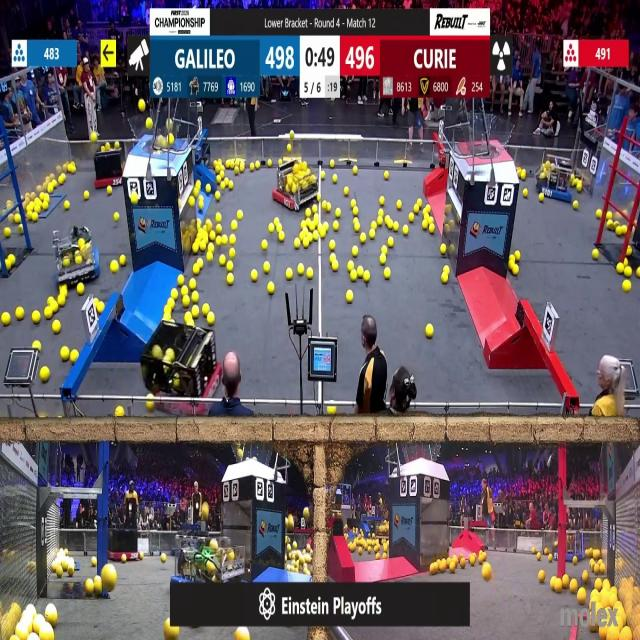ball_airborne: (202, 506, 210, 522), (160, 136, 168, 148), (139, 100, 146, 112), (304, 509, 311, 519), (146, 118, 152, 128), (169, 135, 174, 146)
ball_ground: (44, 605, 56, 625), (104, 567, 116, 586), (237, 628, 250, 640), (553, 580, 563, 594), (483, 564, 492, 579), (576, 589, 585, 604), (40, 366, 49, 380), (94, 580, 103, 594), (40, 631, 53, 640), (570, 580, 578, 594), (87, 581, 95, 595), (61, 348, 70, 360), (426, 324, 434, 337), (207, 313, 215, 326), (2, 313, 10, 326), (70, 350, 78, 363), (15, 308, 23, 321), (54, 321, 62, 334), (446, 562, 454, 575), (346, 290, 354, 302), (33, 312, 41, 324), (110, 262, 118, 274), (356, 267, 364, 279), (430, 562, 438, 574), (269, 282, 276, 295), (115, 408, 123, 419), (190, 291, 197, 303), (225, 274, 232, 286), (203, 304, 210, 316), (513, 265, 520, 277), (132, 191, 139, 203), (191, 307, 198, 319), (44, 308, 51, 320), (562, 574, 569, 586), (76, 284, 84, 294), (350, 272, 358, 282), (327, 408, 335, 418), (182, 296, 190, 306), (220, 236, 228, 246), (184, 312, 192, 322), (538, 569, 544, 582), (307, 269, 314, 280), (363, 272, 370, 283), (443, 274, 450, 285), (624, 281, 631, 292), (172, 288, 179, 299), (98, 303, 105, 314), (188, 279, 195, 290), (515, 250, 522, 261), (7, 254, 14, 265), (468, 555, 475, 566), (286, 269, 292, 281), (33, 342, 41, 351), (596, 577, 602, 589), (600, 628, 606, 640), (420, 220, 428, 229), (165, 313, 173, 322), (348, 262, 355, 272), (177, 276, 184, 286), (625, 268, 632, 278), (618, 265, 625, 275), (230, 236, 237, 246), (480, 552, 487, 562), (209, 232, 216, 242), (230, 248, 237, 258), (188, 198, 195, 208), (61, 285, 68, 295), (200, 242, 207, 252), (69, 164, 76, 174), (507, 263, 514, 273), (251, 271, 257, 282), (384, 269, 390, 280), (593, 249, 599, 260), (119, 255, 125, 266), (219, 254, 225, 265), (265, 264, 271, 275), (442, 244, 448, 255), (297, 266, 303, 277), (359, 234, 365, 245), (60, 174, 66, 185), (331, 221, 338, 230), (571, 201, 578, 210), (181, 286, 188, 295), (225, 161, 232, 170), (402, 224, 408, 234), (381, 254, 387, 264), (331, 263, 337, 273), (328, 241, 334, 251), (113, 212, 119, 222), (226, 263, 232, 273), (380, 197, 386, 207), (354, 221, 360, 231), (4, 229, 10, 239), (232, 220, 238, 230), (278, 233, 284, 243), (388, 238, 394, 248), (147, 400, 153, 410), (216, 223, 222, 233), (192, 266, 198, 276), (270, 222, 276, 232), (60, 295, 66, 305), (263, 240, 269, 250), (294, 240, 300, 250), (32, 212, 38, 222), (520, 170, 526, 180), (237, 210, 243, 220), (313, 232, 319, 242), (428, 222, 434, 232), (618, 226, 624, 236), (42, 201, 48, 211), (191, 244, 197, 254), (92, 134, 98, 144), (208, 244, 215, 252), (584, 570, 589, 581), (352, 247, 358, 256), (207, 253, 213, 262), (538, 192, 544, 201), (162, 554, 168, 563), (396, 201, 402, 210), (93, 558, 99, 567), (328, 253, 334, 262), (344, 187, 350, 196), (47, 295, 53, 304), (168, 298, 174, 307), (216, 237, 222, 246), (206, 183, 212, 192), (388, 220, 394, 229), (299, 220, 305, 229), (196, 183, 202, 192), (54, 302, 60, 311), (410, 213, 415, 223), (337, 208, 342, 218), (576, 182, 581, 192), (215, 190, 220, 200), (17, 224, 22, 234), (322, 202, 327, 212), (107, 186, 113, 194), (596, 210, 602, 218), (304, 240, 310, 248), (379, 208, 385, 216), (306, 209, 312, 217), (627, 247, 633, 255), (198, 260, 204, 268), (274, 217, 280, 225), (199, 202, 205, 210), (298, 232, 304, 240), (378, 217, 384, 225), (220, 182, 226, 190), (414, 206, 420, 214), (310, 222, 316, 230), (606, 212, 612, 220), (424, 206, 430, 214), (423, 214, 429, 222), (276, 224, 282, 232), (147, 392, 153, 400), (382, 246, 388, 254), (348, 542, 354, 550), (65, 202, 70, 211), (320, 231, 325, 240), (313, 205, 318, 214), (369, 232, 374, 240), (216, 214, 221, 222), (331, 175, 336, 183), (445, 266, 450, 274), (393, 222, 398, 230), (353, 208, 358, 216), (370, 220, 375, 228), (14, 215, 19, 223), (384, 172, 389, 180), (329, 161, 334, 169), (624, 258, 629, 266), (250, 164, 255, 172), (323, 222, 328, 230), (572, 557, 577, 565), (636, 269, 640, 279), (47, 184, 52, 192), (84, 190, 88, 199), (228, 184, 232, 193), (351, 201, 356, 208), (383, 554, 388, 561), (240, 166, 245, 173), (417, 200, 422, 207), (524, 188, 528, 196), (140, 553, 144, 561), (269, 161, 273, 169), (236, 167, 240, 175), (255, 163, 259, 171), (353, 168, 357, 175), (547, 555, 551, 562), (216, 176, 220, 183), (532, 546, 536, 553), (321, 173, 325, 180), (220, 171, 224, 178), (358, 548, 362, 555), (536, 554, 540, 560), (377, 554, 381, 560), (543, 547, 547, 553)
goal: (460, 118, 517, 158), (129, 117, 185, 152)
robot_blue: (170, 532, 242, 586), (54, 227, 102, 286), (537, 156, 575, 203)
robot_red: (146, 320, 218, 414), (273, 158, 319, 211), (95, 143, 127, 189), (107, 528, 141, 561), (446, 0, 489, 6)
